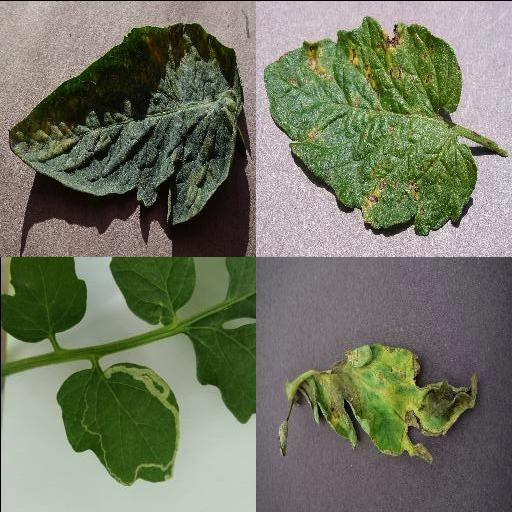Late Blight: (277, 341, 479, 461)
Leaf Miner: (55, 361, 181, 484)
Septoria: (262, 16, 478, 236)
Spider Mites: (6, 22, 242, 222)
